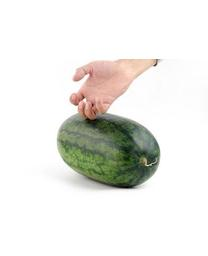watermelon: (56, 109, 161, 192)
